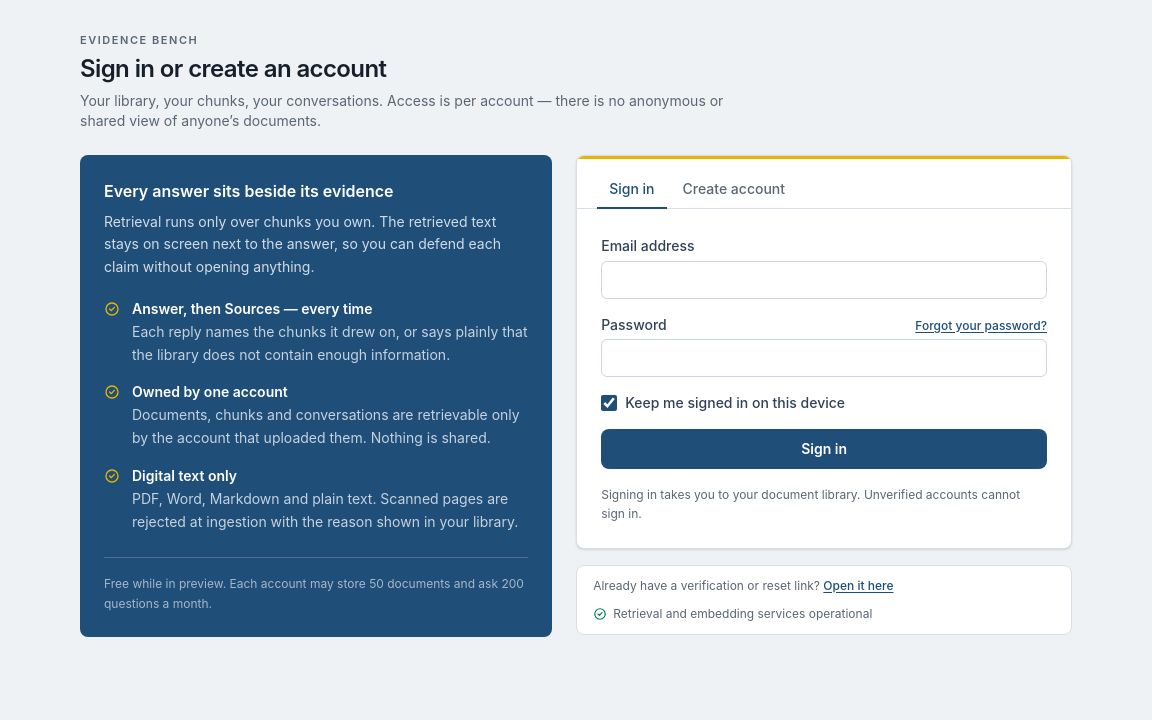
SignIn › sign-in: a 401 renders only the generic invalid credentials message
Type "someone@example.com" into the field labelled "Email address". click: (824, 280)
box: [601,260,1047,298]
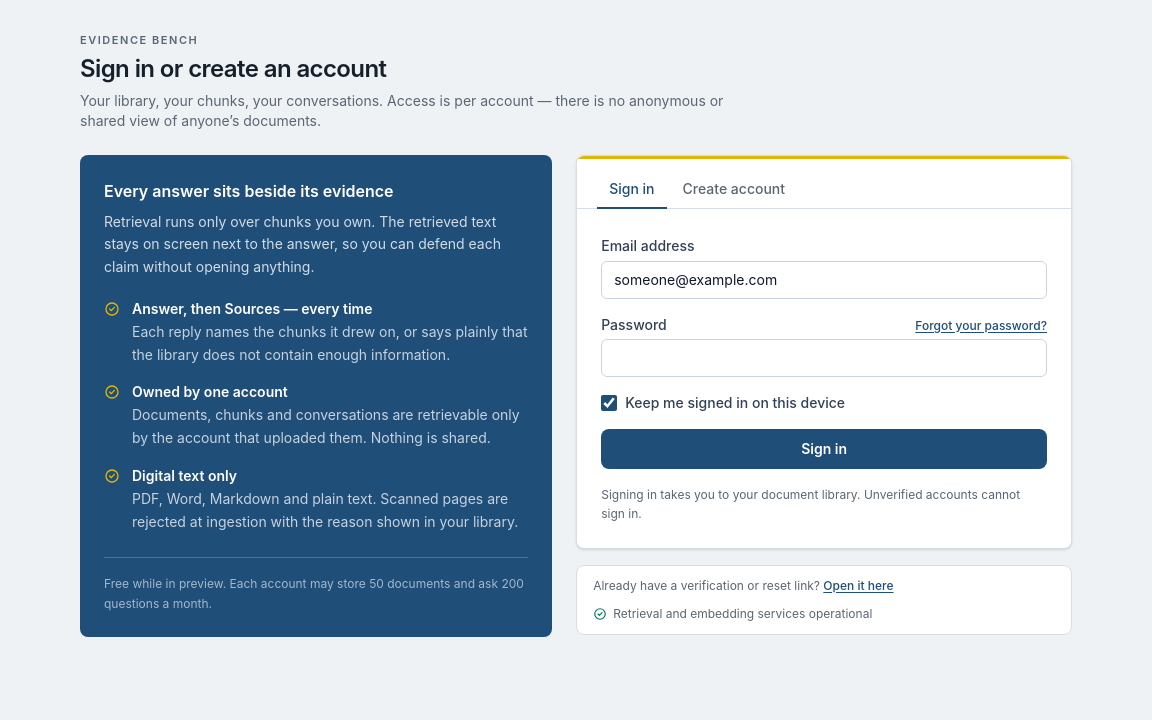
Type "wrong-password" into the password field labelled "Password". click: (824, 358)
box: [601,338,1047,376]
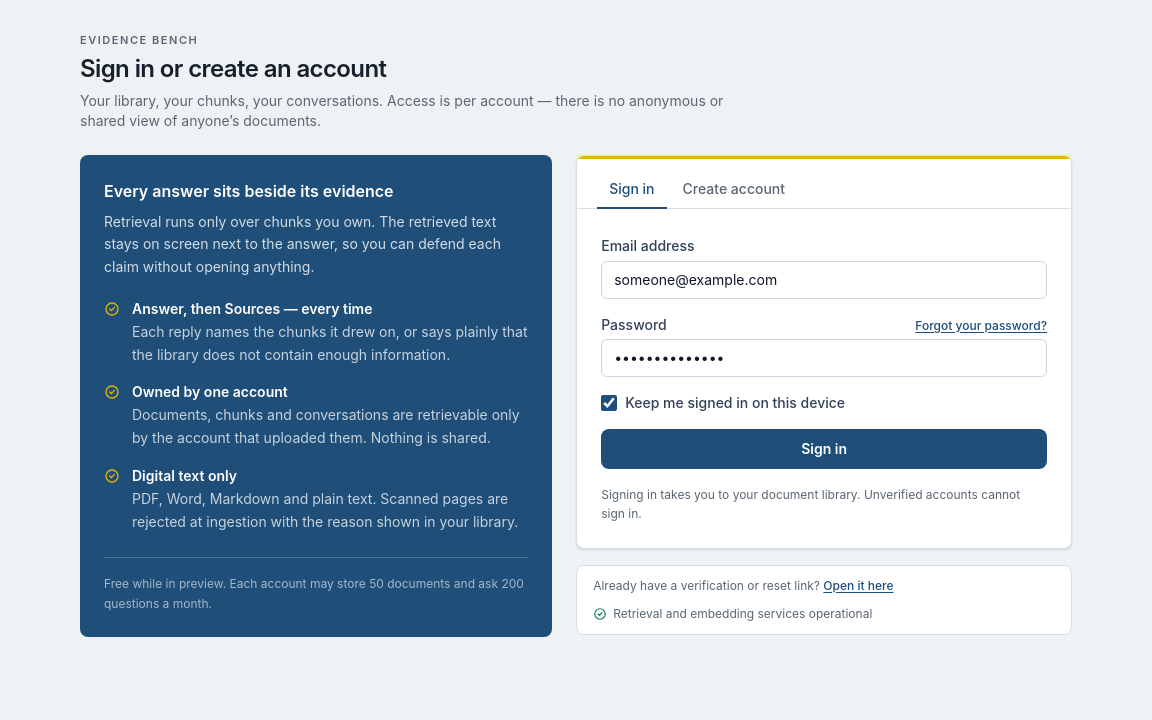
Click the button "Sign in". click: click(824, 448)
box: [601,428,1047,468]
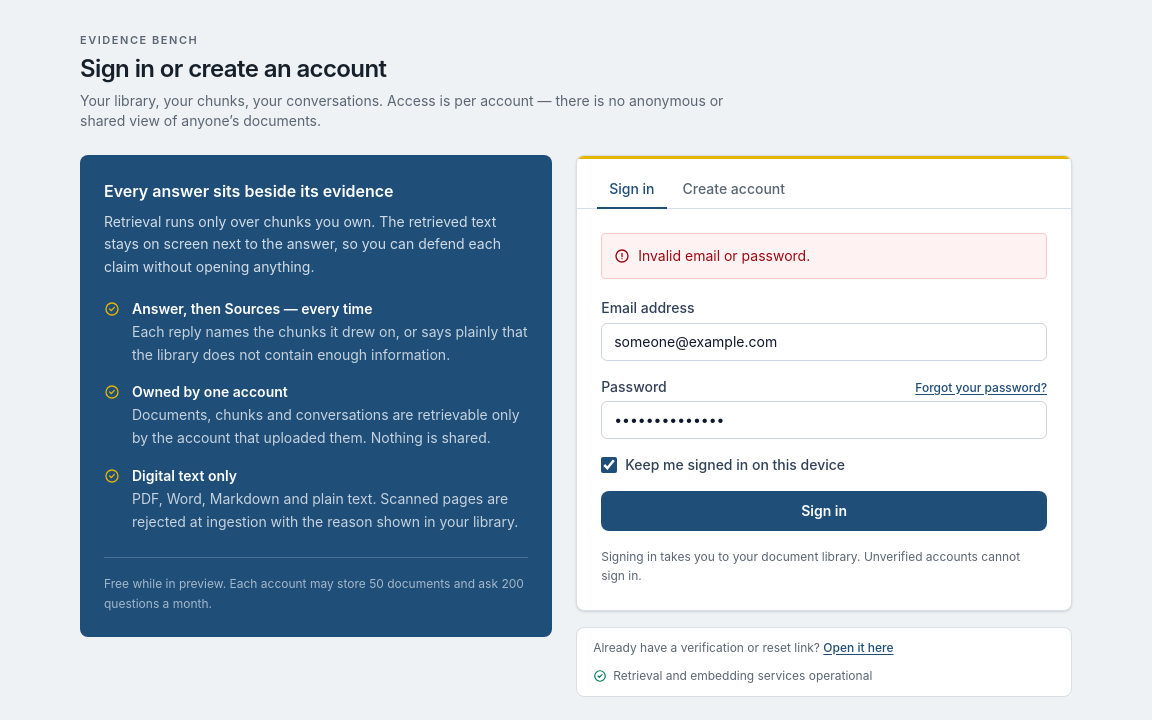
Expected: the message does not show "Incorrect password", [601,232,1047,278]
Expected: the message reads "Invalid email or password.", [638,246,810,264]
